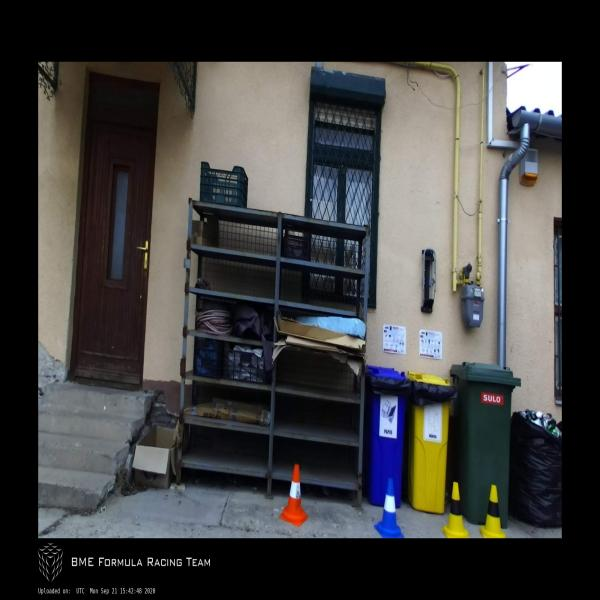blue_cone: (373, 478, 405, 538)
orange_cone: (280, 464, 309, 526)
yellow_cone: (441, 482, 470, 538), (479, 485, 506, 538)
